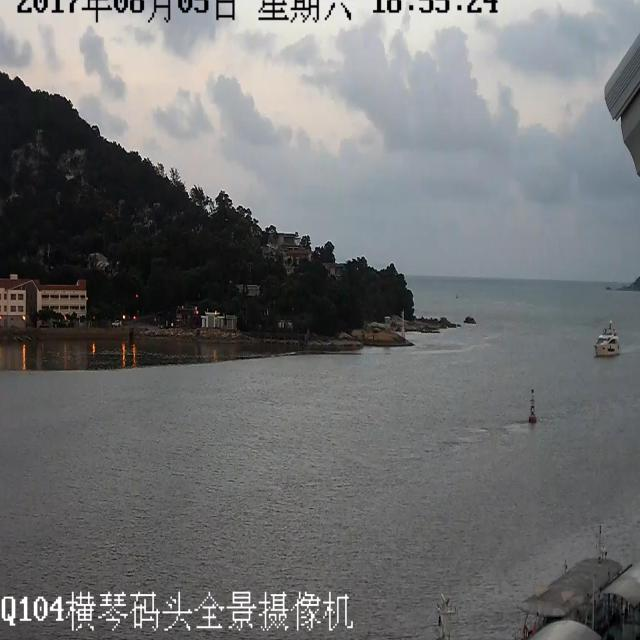buoy: (518, 381, 544, 436)
passenger ship: (585, 322, 621, 358)
reef: (606, 245, 640, 293)
